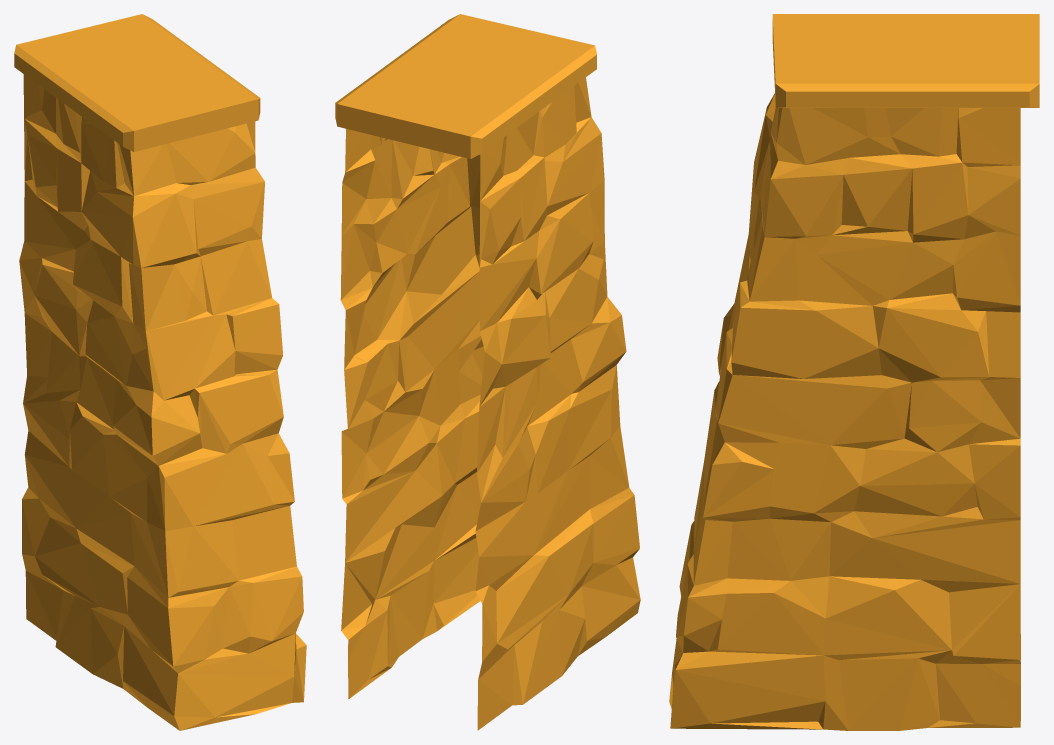
Rendered from SM_Support_Leaning_Bottom_A_Fantasy.fbx.
3 views of the same model, side by side, from view 1: azimuth 30°, elevation 25°; view 2: azimuth 150°, elevation 25°; view 3: azimuth 270°, elevation 25° (orthographic). The views are drawn at different scales.
Visible parts, largest first — view 1: SM_Support_Leaning_Bottom_A_Fantasy; view 2: SM_Support_Leaning_Bottom_A_Fantasy; view 3: SM_Support_Leaning_Bottom_A_Fantasy.
Boxes of the visible parts, <box> form: SM_Support_Leaning_Bottom_A_Fantasy: <box>14,14,306,730</box>; SM_Support_Leaning_Bottom_A_Fantasy: <box>335,14,640,730</box>; SM_Support_Leaning_Bottom_A_Fantasy: <box>669,14,1039,730</box>.
Bounding box in the file's own units: 0.7798 × 3.05 × 1.58.
